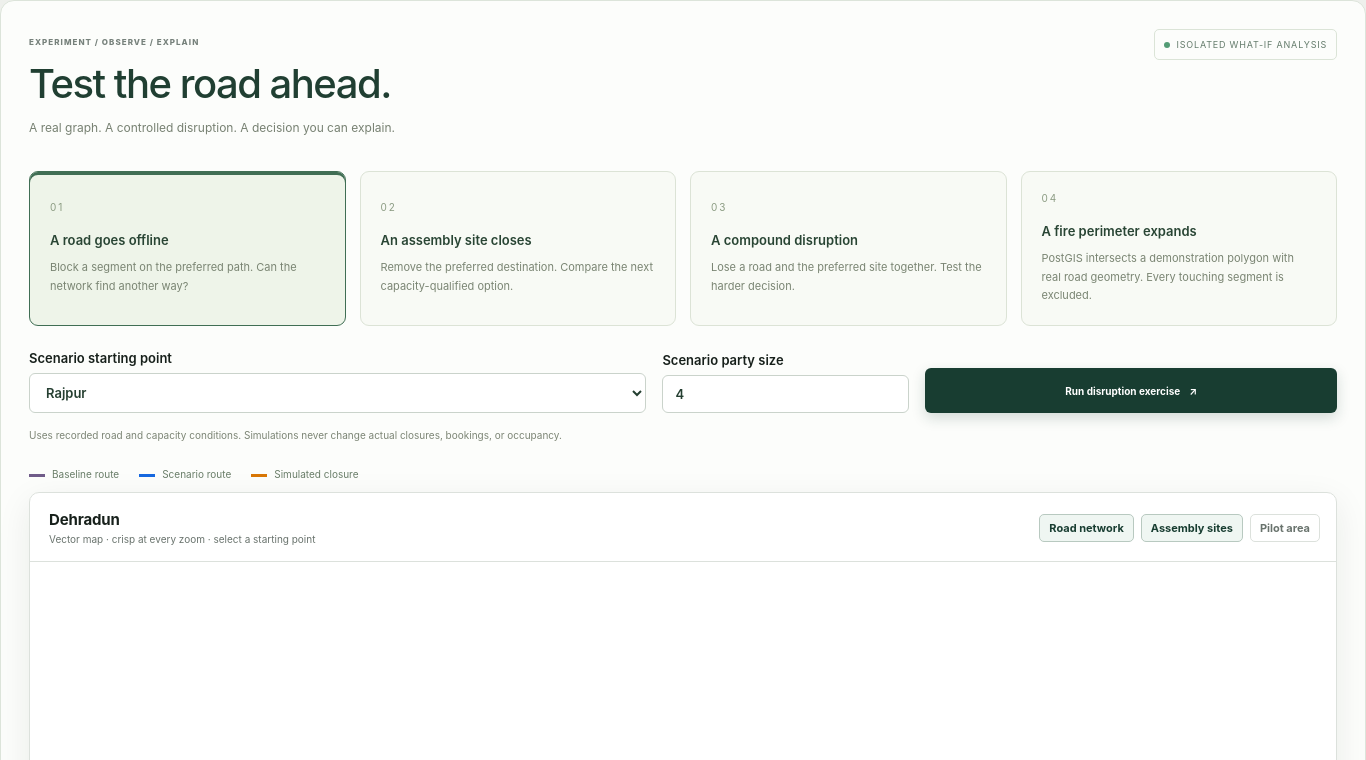
Test: road exercise blocks a baseline segment and renders the returned comparison
The image size is (1366, 760).
Click the button "Run disruption exercise ↗" at x=1131, y=391, box 925,368 -> 1337,413
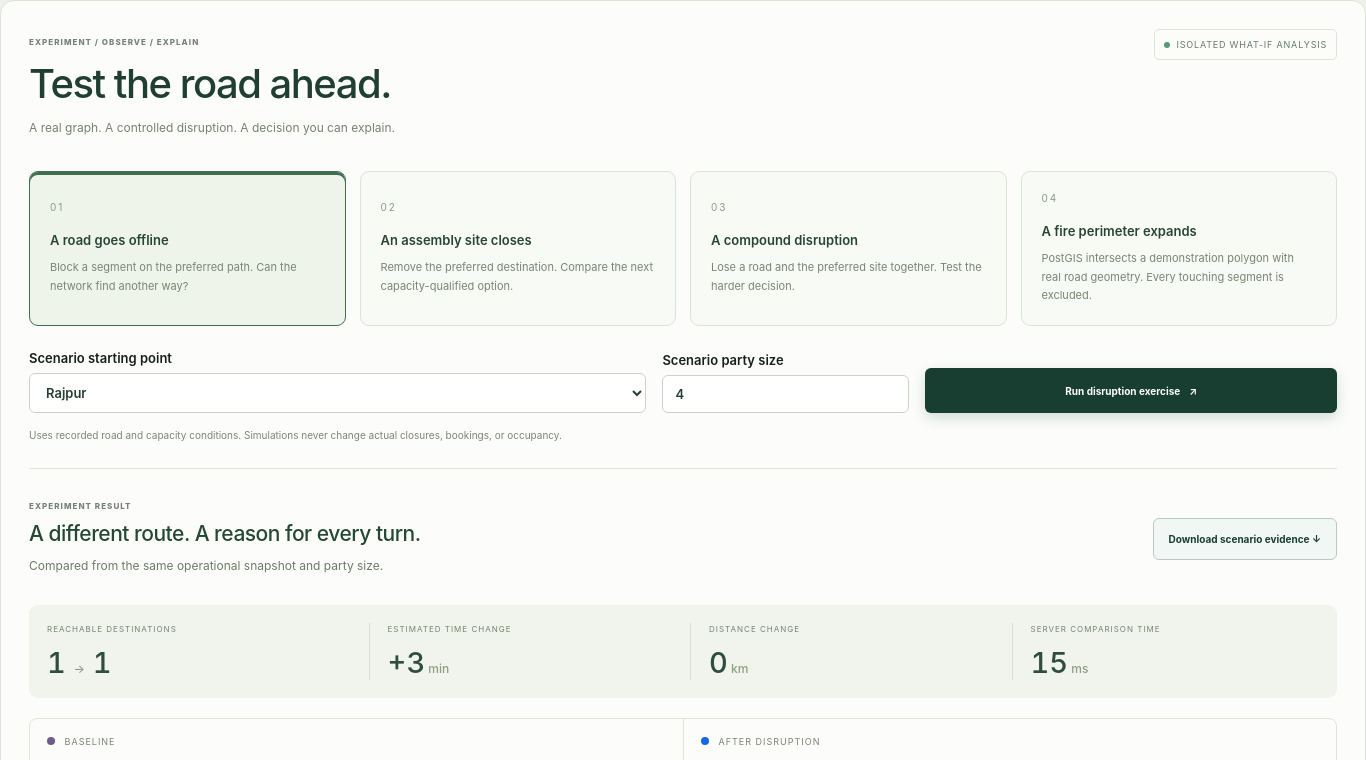
Expected: the heading "A different route. A reason for every turn." is shown, 29,521 -> 421,546
Expected: the text "+3" is shown, 388,645 -> 425,680
Expected: the button "Download scenario evidence ↓" is shown, 1153,518 -> 1337,560
